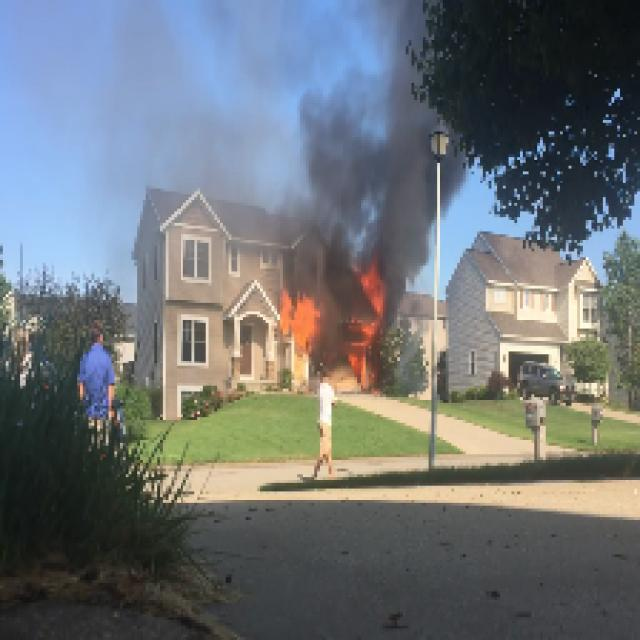Fire: (325, 135, 423, 277)
